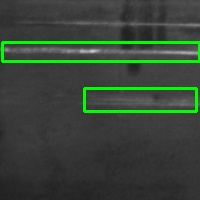inclusion: (118, 3, 174, 56)
scratches: (2, 42, 199, 61), (24, 16, 200, 34), (84, 88, 196, 111)
